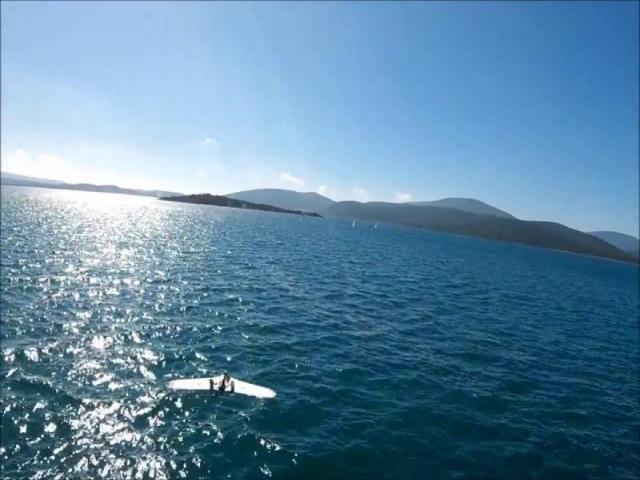hedef: (162, 359, 286, 412)
